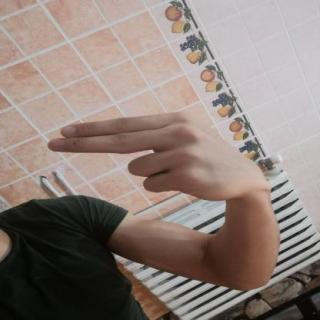AYN: (39, 102, 270, 208)
